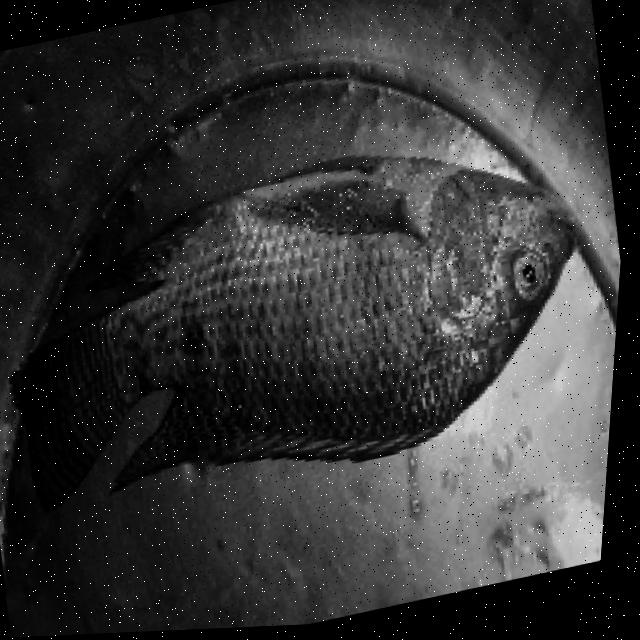Fresh: (0, 103, 633, 531)
